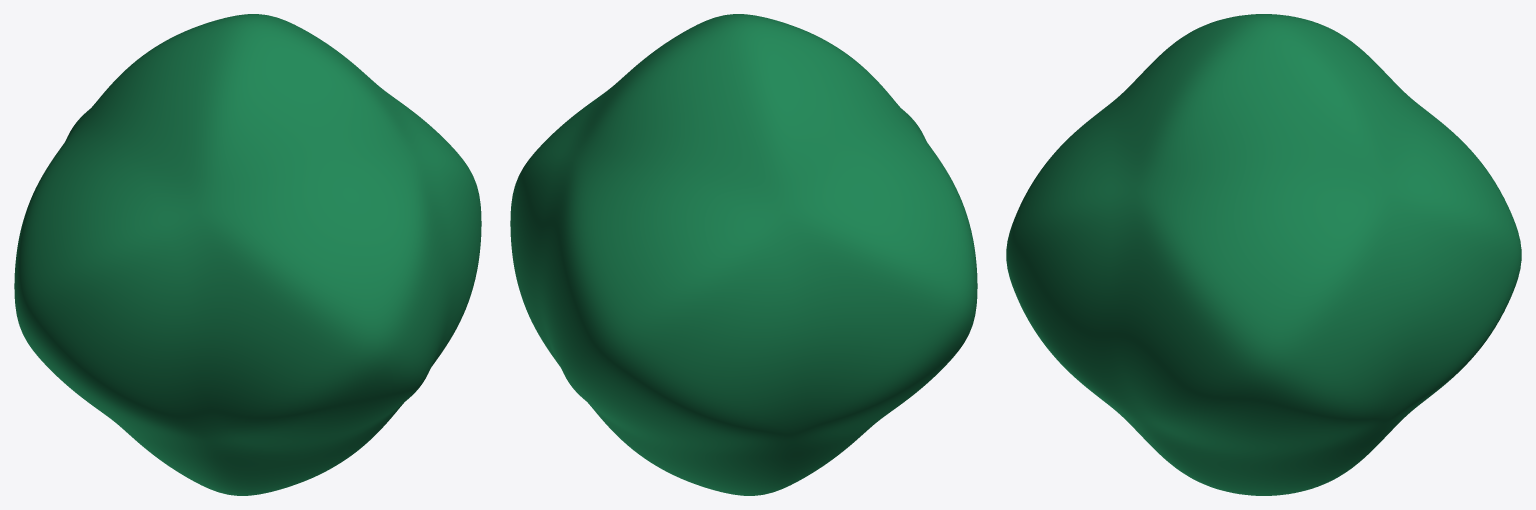
The model's file is Planet3.fbx.
3 renders of one model, left to right at view 1: azimuth 30°, elevation 25°; view 2: azimuth 150°, elevation 25°; view 3: azimuth 270°, elevation 25°, orthographic.
Parts seen in each view (by area): view 1: Planet3; view 2: Planet3; view 3: Planet3.
Part boxes in pixels (x1,y1,x2,y2): Planet3: [14, 14, 481, 495]; Planet3: [510, 14, 977, 495]; Planet3: [1006, 14, 1521, 495].
Bounding box in the file's own units: 699 × 699 × 699.
